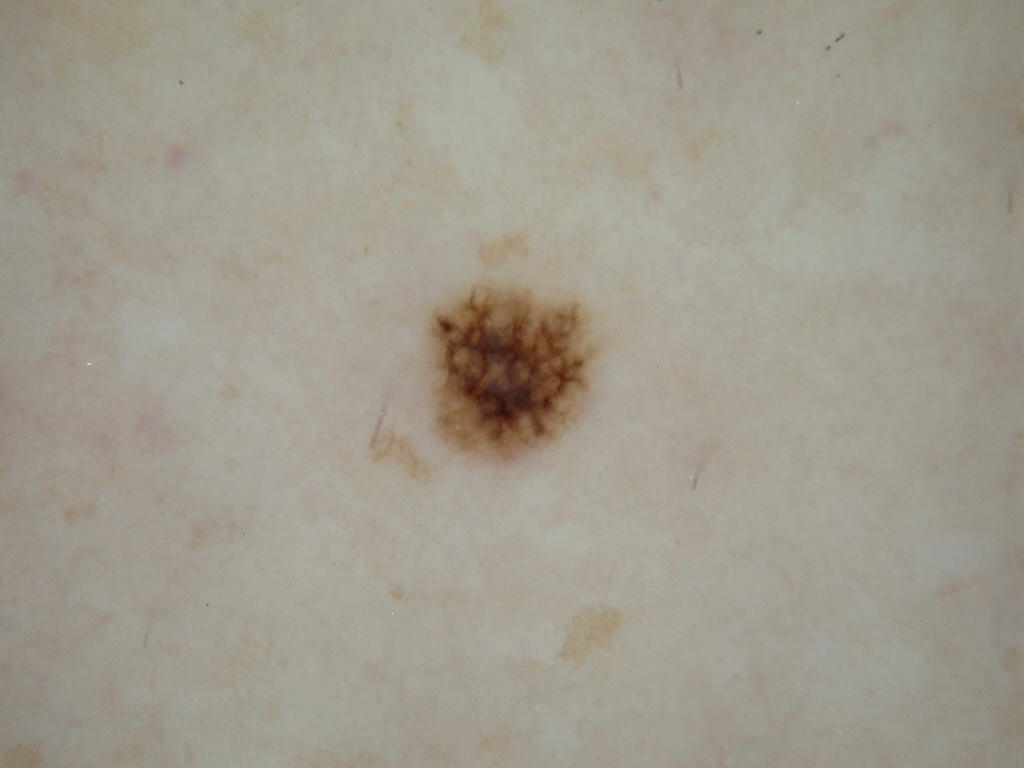Detected Lesion: (431, 280, 595, 473)
